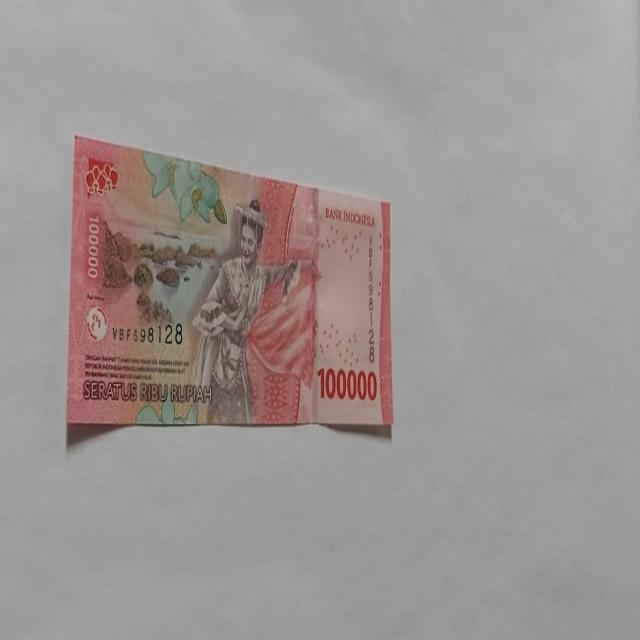seratus ribu rupiah: (66, 134, 394, 434), (188, 199, 302, 425)
